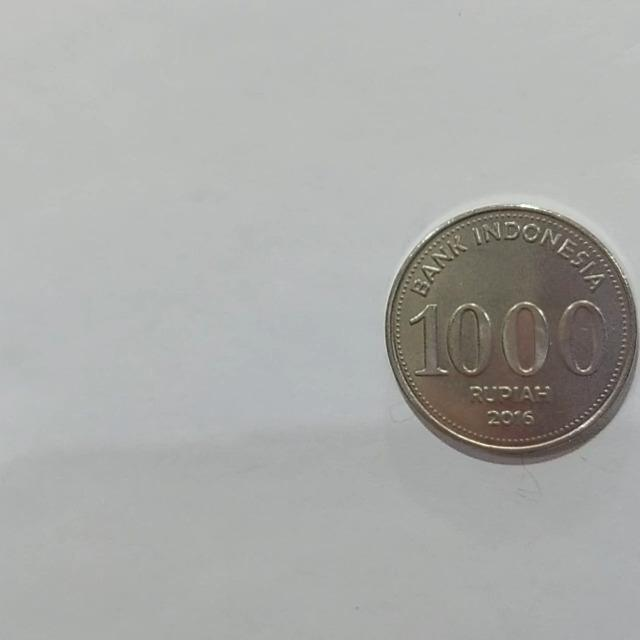Rp100: (382, 201, 639, 465)
